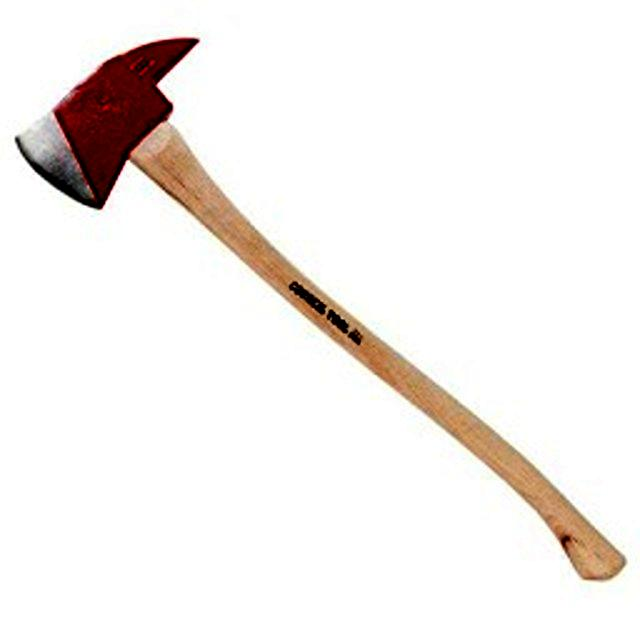ax: (7, 29, 636, 591)
